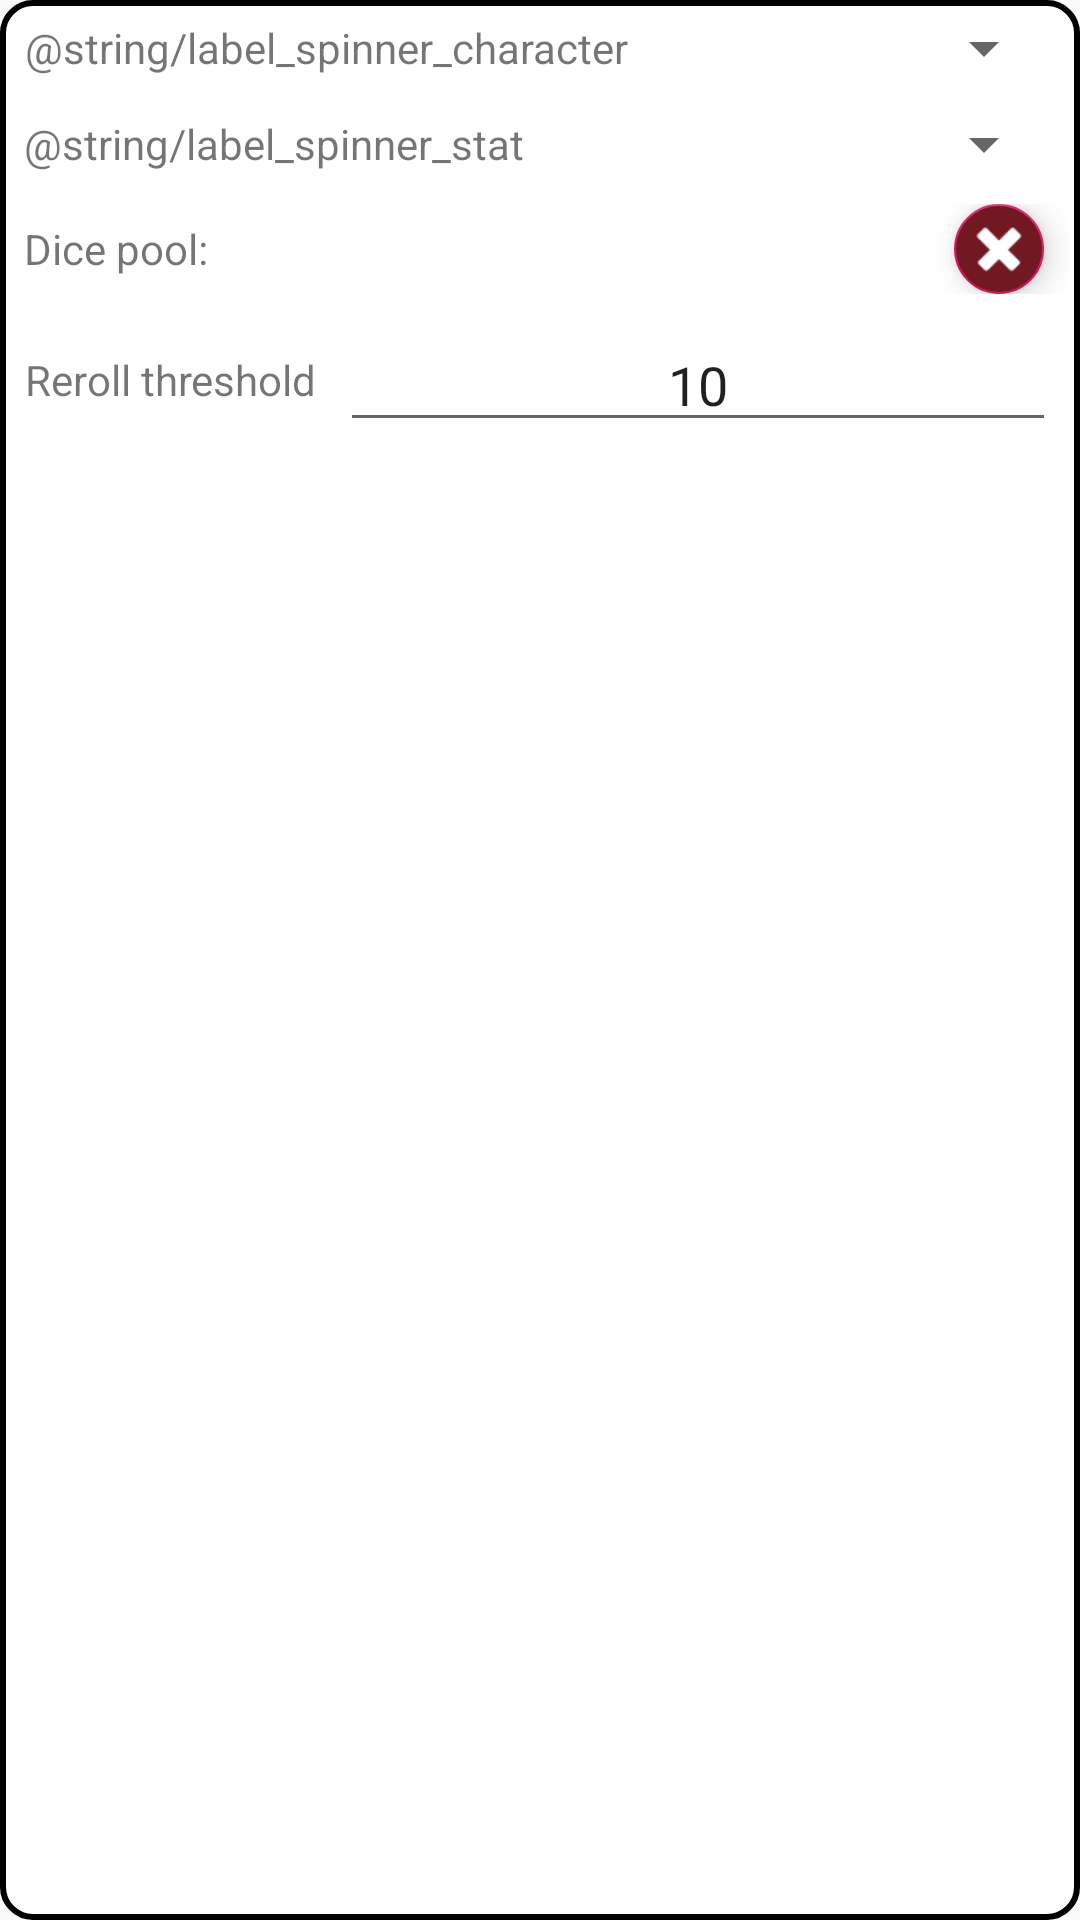

Screen size 1080 x 1920. Icon name, then its center in pixels as (x,y):
delete: (999,249)
